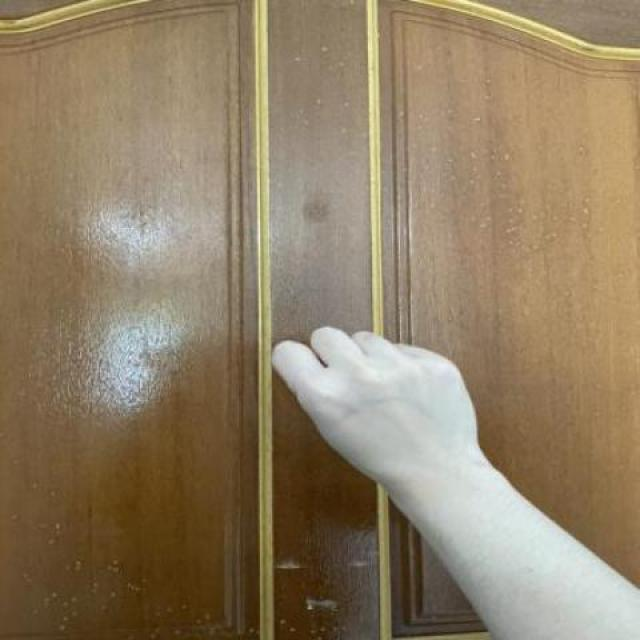Closed Hand: (273, 319, 486, 497)
